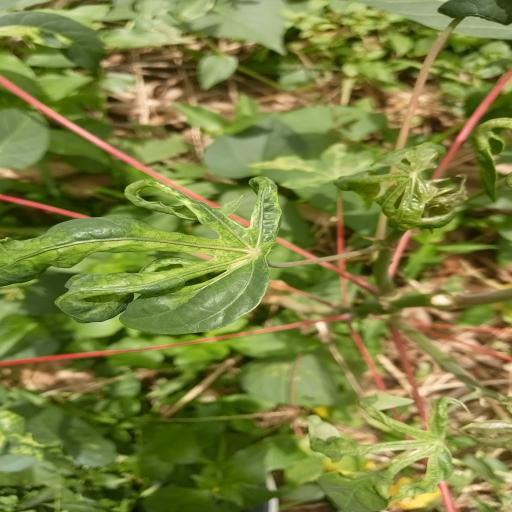Cassava_Mosaic: (0, 172, 292, 340)
